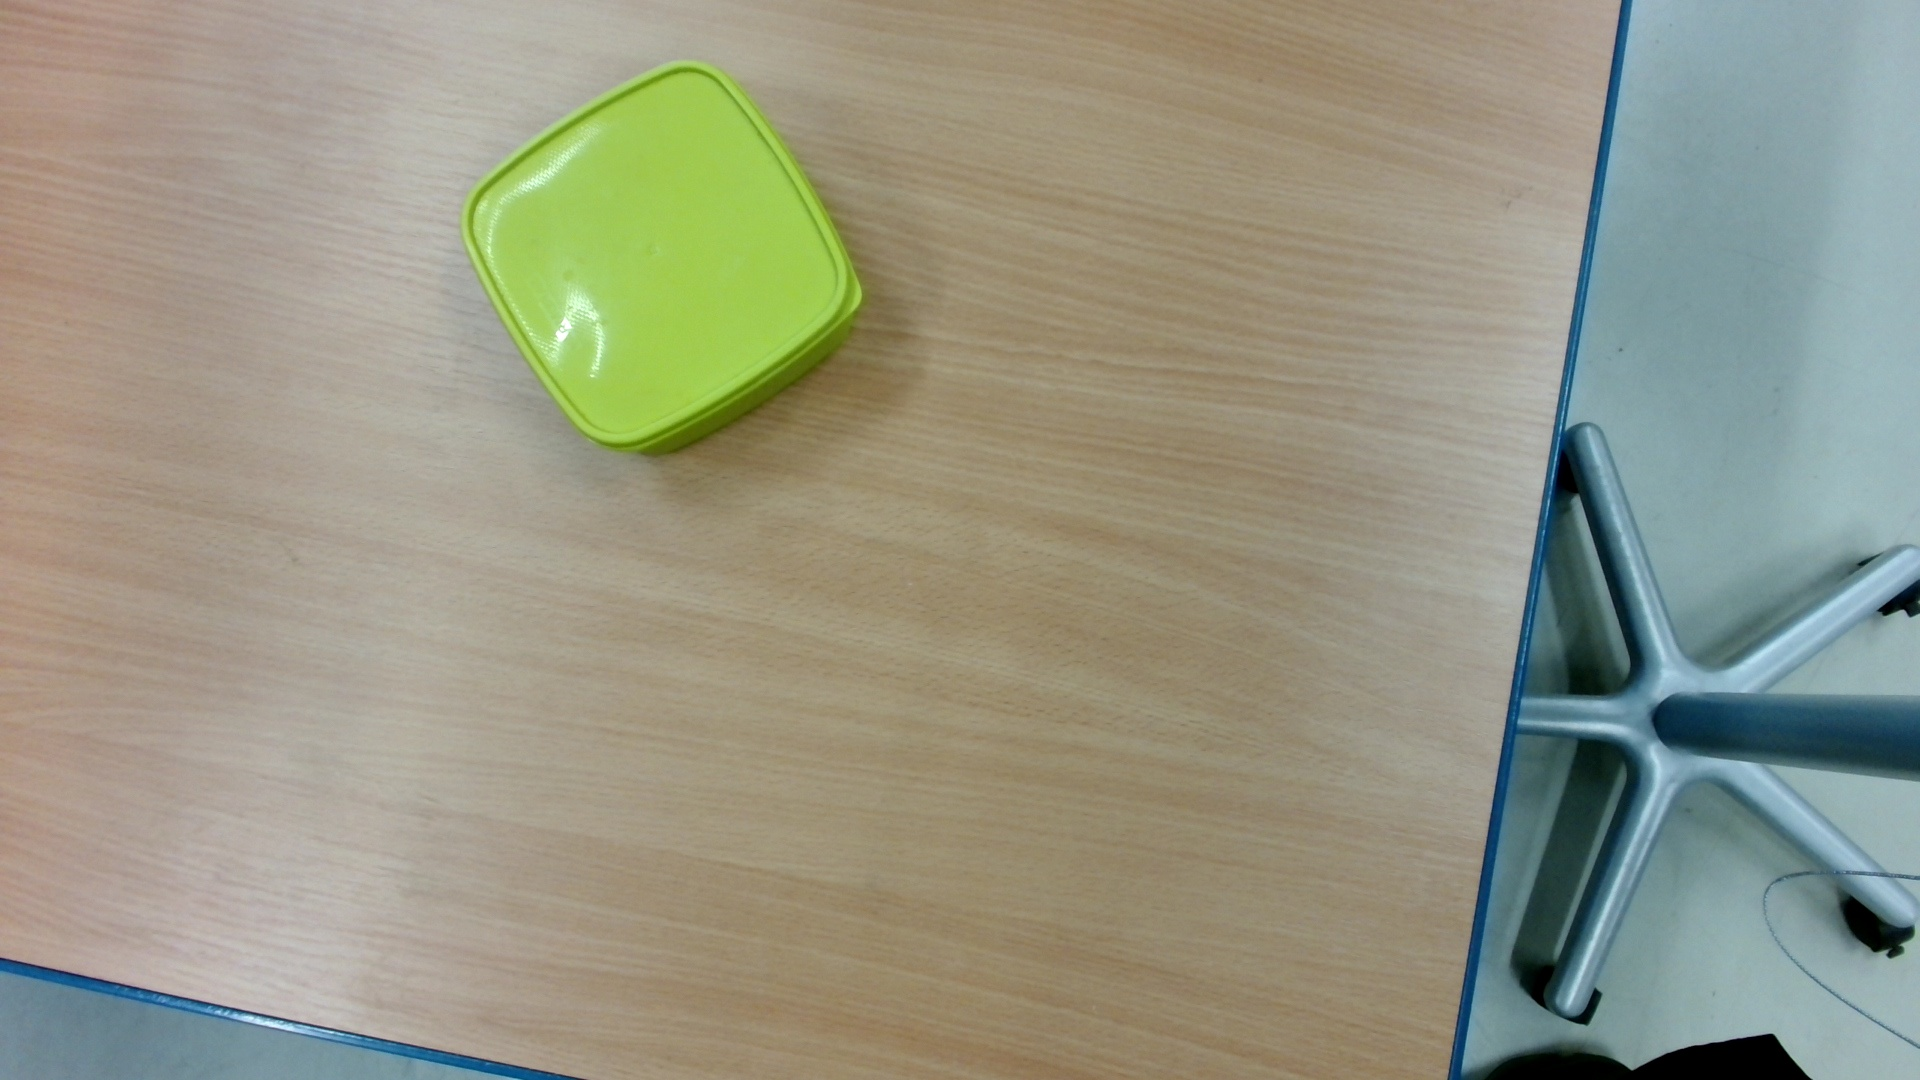Box: (454, 51, 874, 462)
